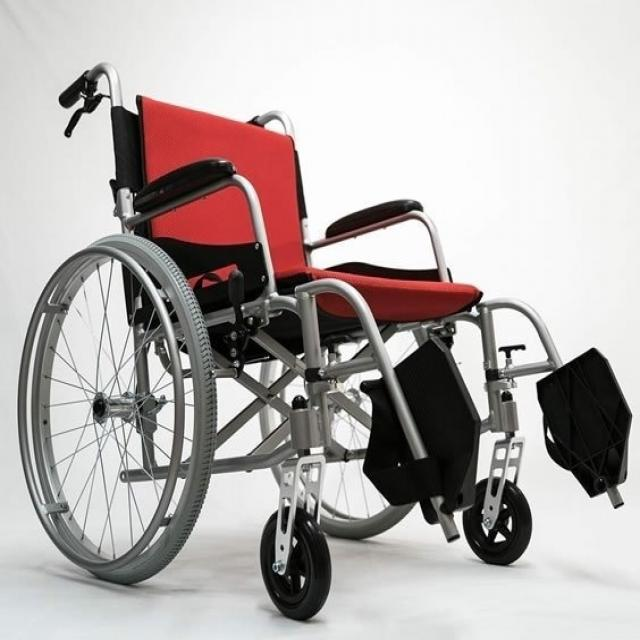wheelchair: (18, 54, 640, 626)
